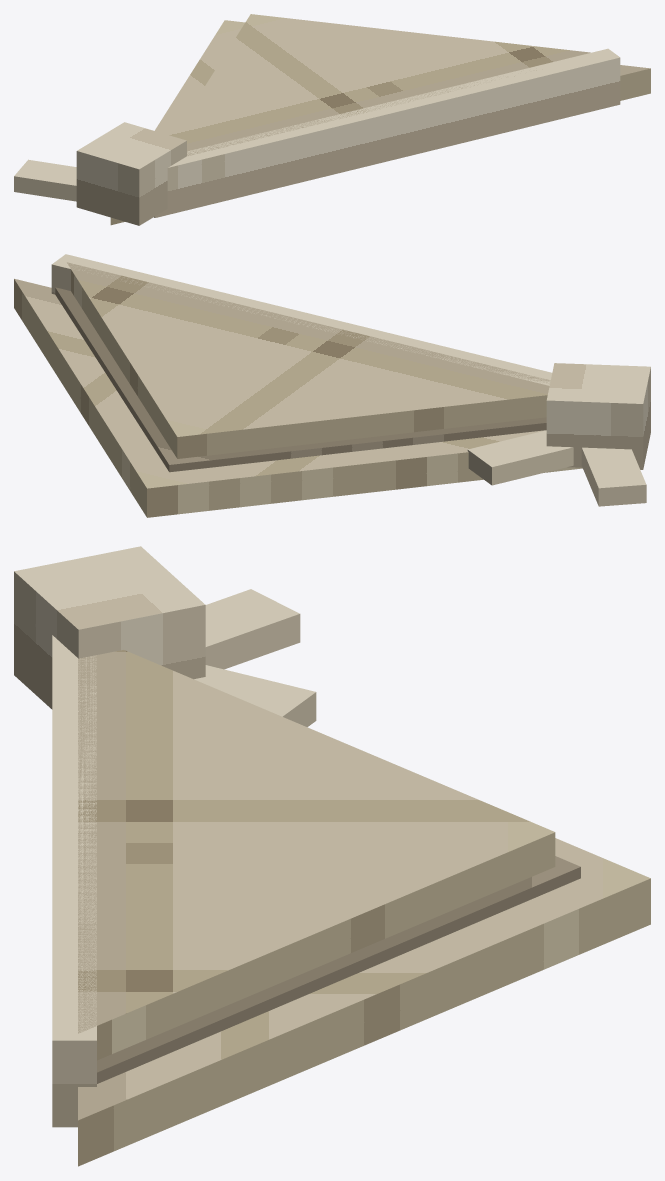
The model's file is kerchief.glb.
The picture shows the model from 3 angles, top to bottom: view 1: azimuth 30°, elevation 25°; view 2: azimuth 150°, elevation 25°; view 3: azimuth 270°, elevation 25°; orthographic projection. The views are drawn at different scales.
Parts seen in each view (by area): view 1: kerchief; view 2: kerchief; view 3: kerchief.
Part boxes in pixels (x1,y1,x2,y2): kerchief: [14, 14, 650, 225]; kerchief: [14, 254, 650, 517]; kerchief: [14, 546, 650, 1166].
Bounding box in the file's own units: 0.3929 × 0.042 × 0.2001.
Materials: 1 (1 with a texture image).
